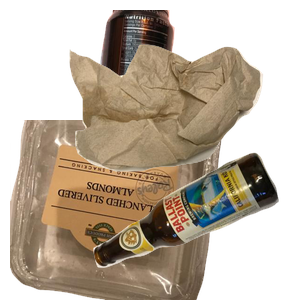glass: (91, 150, 300, 300)
metal: (91, 10, 258, 188)
plastic: (10, 120, 227, 300)
trash: (67, 42, 300, 206)
